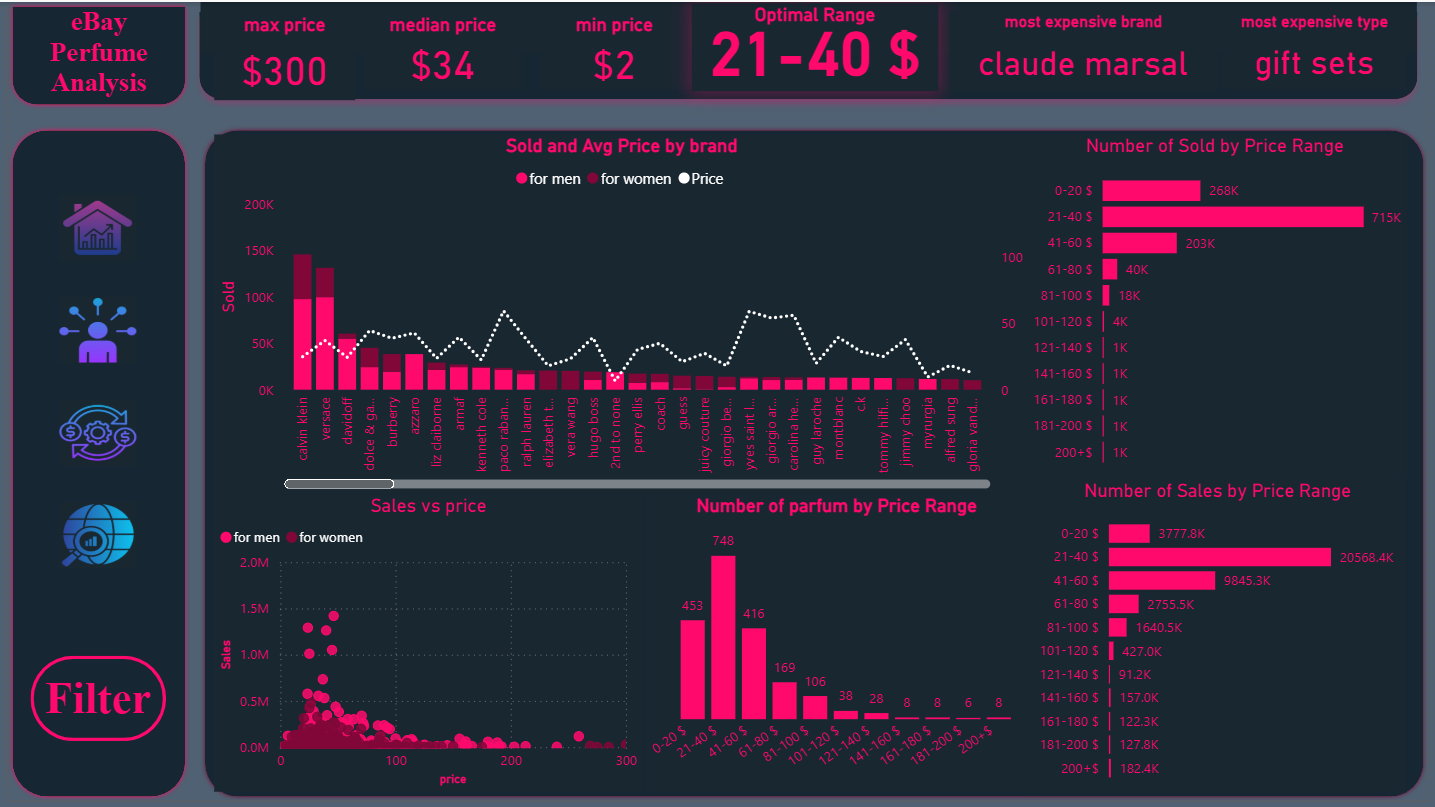

Layout of this report page (visuals, bound fields, positions):
{"tool":"powerbi","page":{"name":"Price optimaization","canvas":[1280,720],"ordinal":2},"visuals":[{"type":"shape","box":[173.6,111.3,1106.7,609],"z":0},{"type":"actionButton","box":[46.5,173.6,69.7,59.9],"z":0,"group":"g1"},{"type":"actionButton","box":[46.5,266.1,69.7,59.9],"z":1000,"group":"g1"},{"type":"clusteredColumnChart","title":"Number of parfum  by Price Range","fields":{"Category":["perfum_cleaned.Price Range"],"Y":["CountNonNull(perfum_cleaned.title)"]},"box":[573.5,443.9,347.3,267.8],"z":1000},{"type":"scatterChart","title":"Sales vs price","fields":{"X":["perfum_cleaned.price"],"Y":["Sum(perfum_cleaned.Sales)"],"Series":["perfum_cleaned.target_audience"]},"box":[185.9,443.9,386.4,267.8],"z":2000},{"type":"actionButton","box":[46.5,451.2,69.7,59.9],"z":2000,"group":"g1"},{"type":"clusteredBarChart","title":"Number of Sold by Price Range","fields":{"Category":["perfum_cleaned.Price Range"],"Y":["Sum(perfum_cleaned.sold)"]},"box":[914.7,119.8,346.1,310.6],"z":3000},{"type":"actionButton","box":[46.5,358.7,69.7,59.9],"z":3000,"group":"g1"},{"type":"lineStackedColumnComboChart","title":"Sold and Avg Price by brand","fields":{"Category":["perfum_cleaned.brand"],"Y":["Sum(perfum_cleaned.sold)"],"Y2":["Avg(perfum_cleaned.price)"],"Series":["perfum_cleaned.target_audience"]},"box":[185.9,119.8,734.9,324.1],"z":4000},{"type":"clusteredBarChart","title":"Number of Sales by Price Range","fields":{"Category":["perfum_cleaned.Price Range"],"Y":["Sum(perfum_cleaned.Sales)"]},"box":[920.8,430.4,339.9,282.5],"z":5000},{"type":"shape","box":[163.6,0,1116.4,96.6],"z":6000},{"type":"shape","box":[173.6,0,1096.9,46.5],"z":7000},{"type":"shape","box":[0,111.3,163.9,609],"z":8000},{"type":"card","title":"median price","fields":{"Values":["perfum_cleaned.median price"]},"box":[321.6,9.8,141.8,68.5],"z":9000},{"type":"card","title":"min price","fields":{"Values":["perfum_cleaned.min price"]},"box":[480.6,9.8,133.3,68.5],"z":10000},{"type":"card","title":"max price","fields":{"Values":["perfum_cleaned.max price"]},"box":[185.9,9.8,127.2,78.3],"z":11000},{"type":"card","title":"Optimal Range","fields":{"Values":["perfum_cleaned.Optimal Range"]},"box":[616.3,1.2,222.6,79.5],"z":12000},{"type":"card","title":"most expensive brand","fields":{"Values":["perfum_cleaned.most expensive brand"]},"box":[848.6,8.6,242.1,72.1],"z":13000},{"type":"card","title":"most expensive type","fields":{"Values":["perfum_cleaned.most expensive type"]},"box":[1095.7,8.6,165.1,69.7],"z":14000},{"type":"group","id":"g1","title":"Group 1","box":[46.5,173.6,69.7,337.5],"z":15000},{"type":"shape","title":"eBay Perfume Market Analysis","box":[0,0,163.9,96.6],"z":16000},{"type":"actionButton","title":"filter","box":[20.8,589.4,122.3,77],"z":17000}]}

Visuals, with their boxes in screenshot pixels (x1, y1, x2, y2), scaled from the page's 1280x720 canvas onto the 1435x807 screenshot:
shape: detection(195, 125, 1434, 806)
actionButton: detection(52, 195, 130, 262)
actionButton: detection(52, 298, 130, 365)
"Number of parfum  by Price Range" clusteredColumnChart: detection(643, 498, 1032, 798)
"Sales vs price" scatterChart: detection(208, 498, 642, 798)
actionButton: detection(52, 506, 130, 573)
"Number of Sold by Price Range" clusteredBarChart: detection(1025, 134, 1413, 482)
actionButton: detection(52, 402, 130, 469)
"Sold and Avg Price by brand" lineStackedColumnComboChart: detection(208, 134, 1032, 498)
"Number of Sales by Price Range" clusteredBarChart: detection(1032, 482, 1413, 799)
shape: detection(183, 0, 1434, 108)
shape: detection(195, 0, 1424, 52)
shape: detection(0, 125, 184, 806)
"median price" card: detection(361, 11, 520, 88)
"min price" card: detection(539, 11, 688, 88)
"max price" card: detection(208, 11, 351, 99)
"Optimal Range" card: detection(691, 1, 940, 90)
"most expensive brand" card: detection(951, 10, 1223, 90)
"most expensive type" card: detection(1228, 10, 1413, 88)
"Group 1" group: detection(52, 195, 130, 573)
"eBay Perfume Market Analysis" shape: detection(0, 0, 184, 108)
"filter" actionButton: detection(23, 661, 160, 747)
